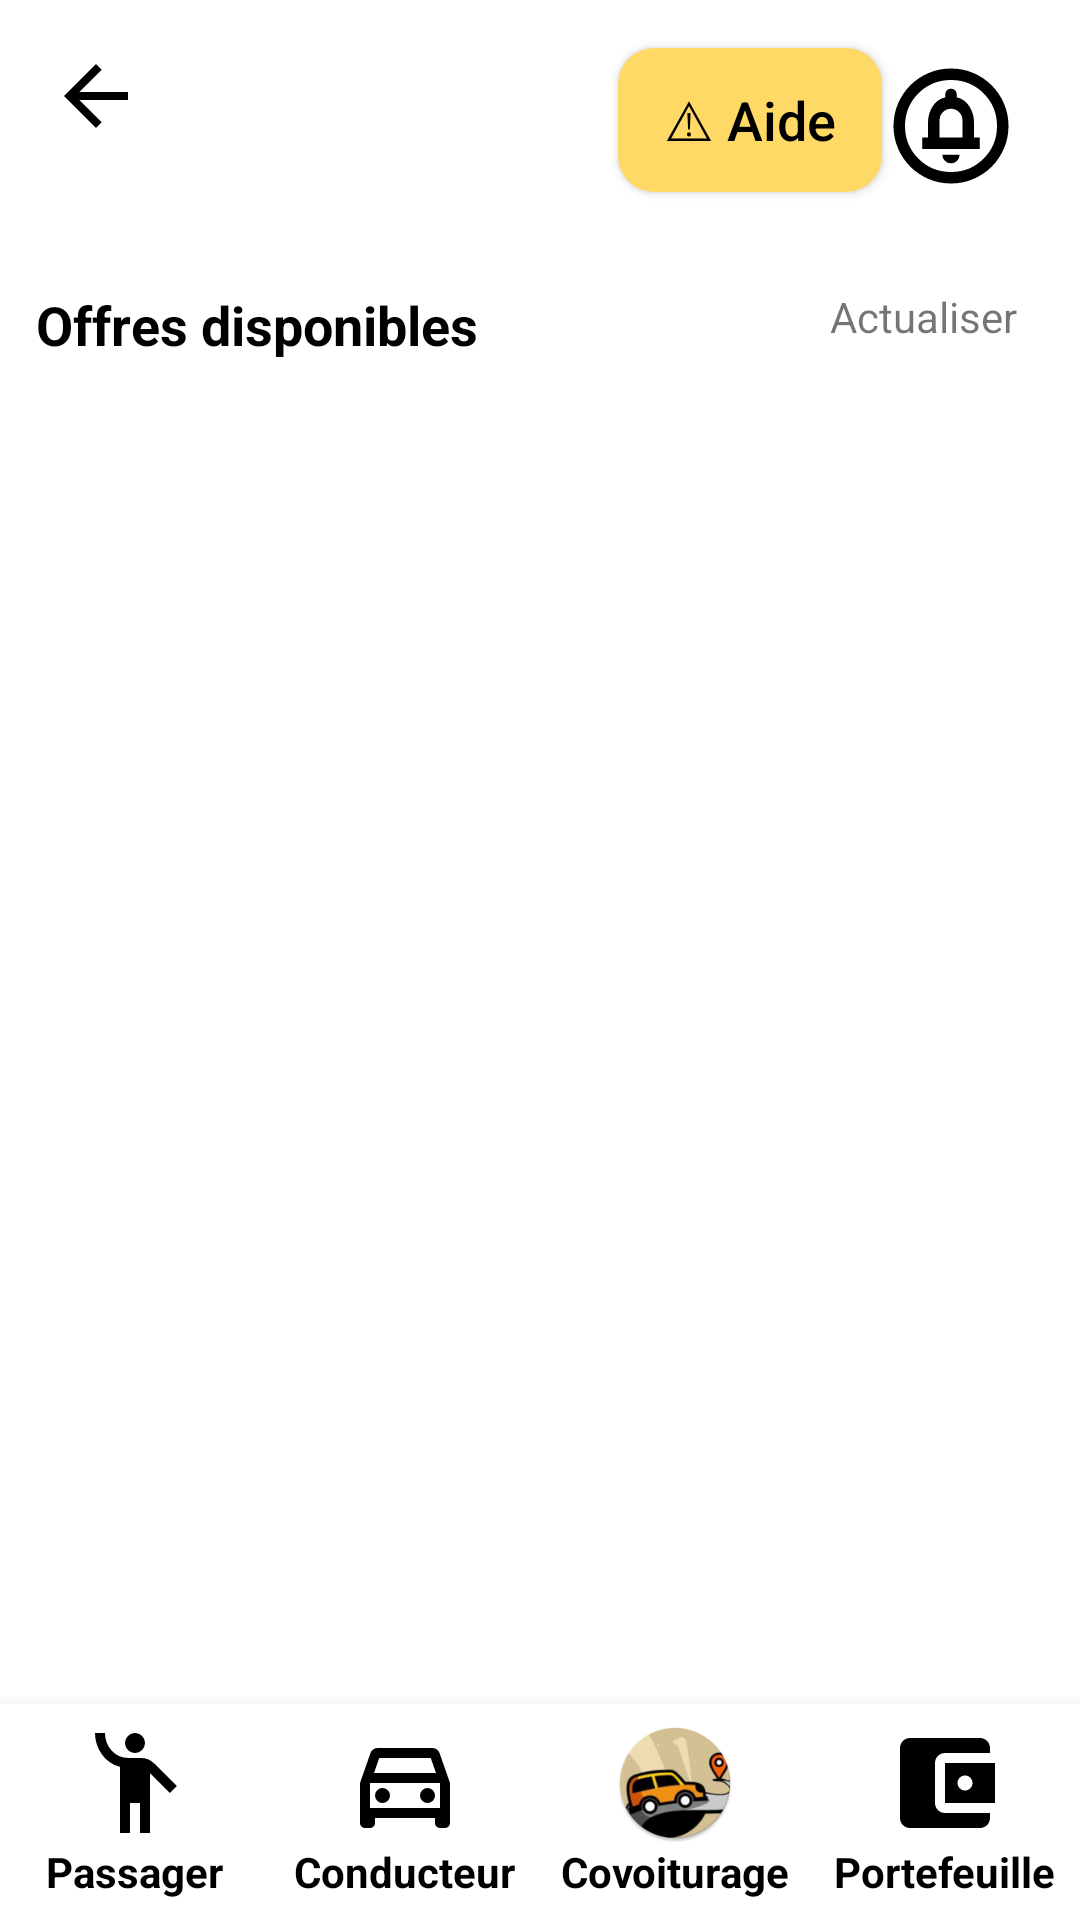

Icons on this 1080*1920 Android screen, each with its box as (x1, y1, x2, y2):
directions car: (360, 1748, 450, 1828)
Notification: (893, 68, 1009, 184)
Retour: (64, 64, 128, 128)
